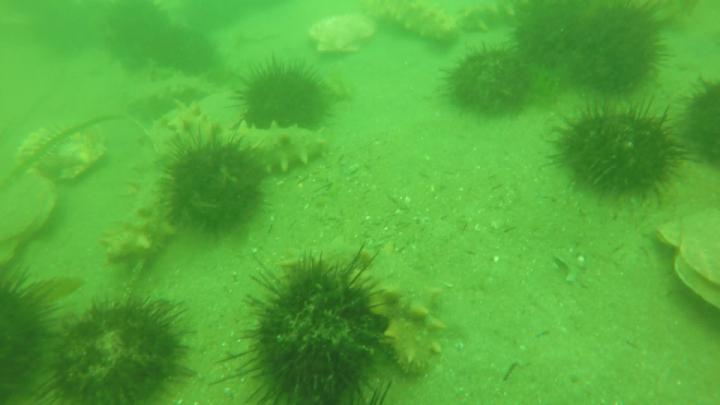echinus: (229, 253, 398, 405), (36, 291, 194, 405), (552, 90, 690, 210), (551, 2, 675, 100), (162, 131, 267, 237), (1, 260, 58, 399), (441, 46, 538, 121), (237, 66, 333, 129), (156, 20, 216, 80), (683, 74, 720, 168)
holothurian: (285, 232, 443, 374), (105, 113, 183, 268), (202, 121, 331, 169), (373, 1, 460, 48), (461, 2, 521, 34)
scallop: (658, 200, 720, 317), (16, 121, 114, 184), (1, 171, 57, 266), (308, 13, 380, 56)
